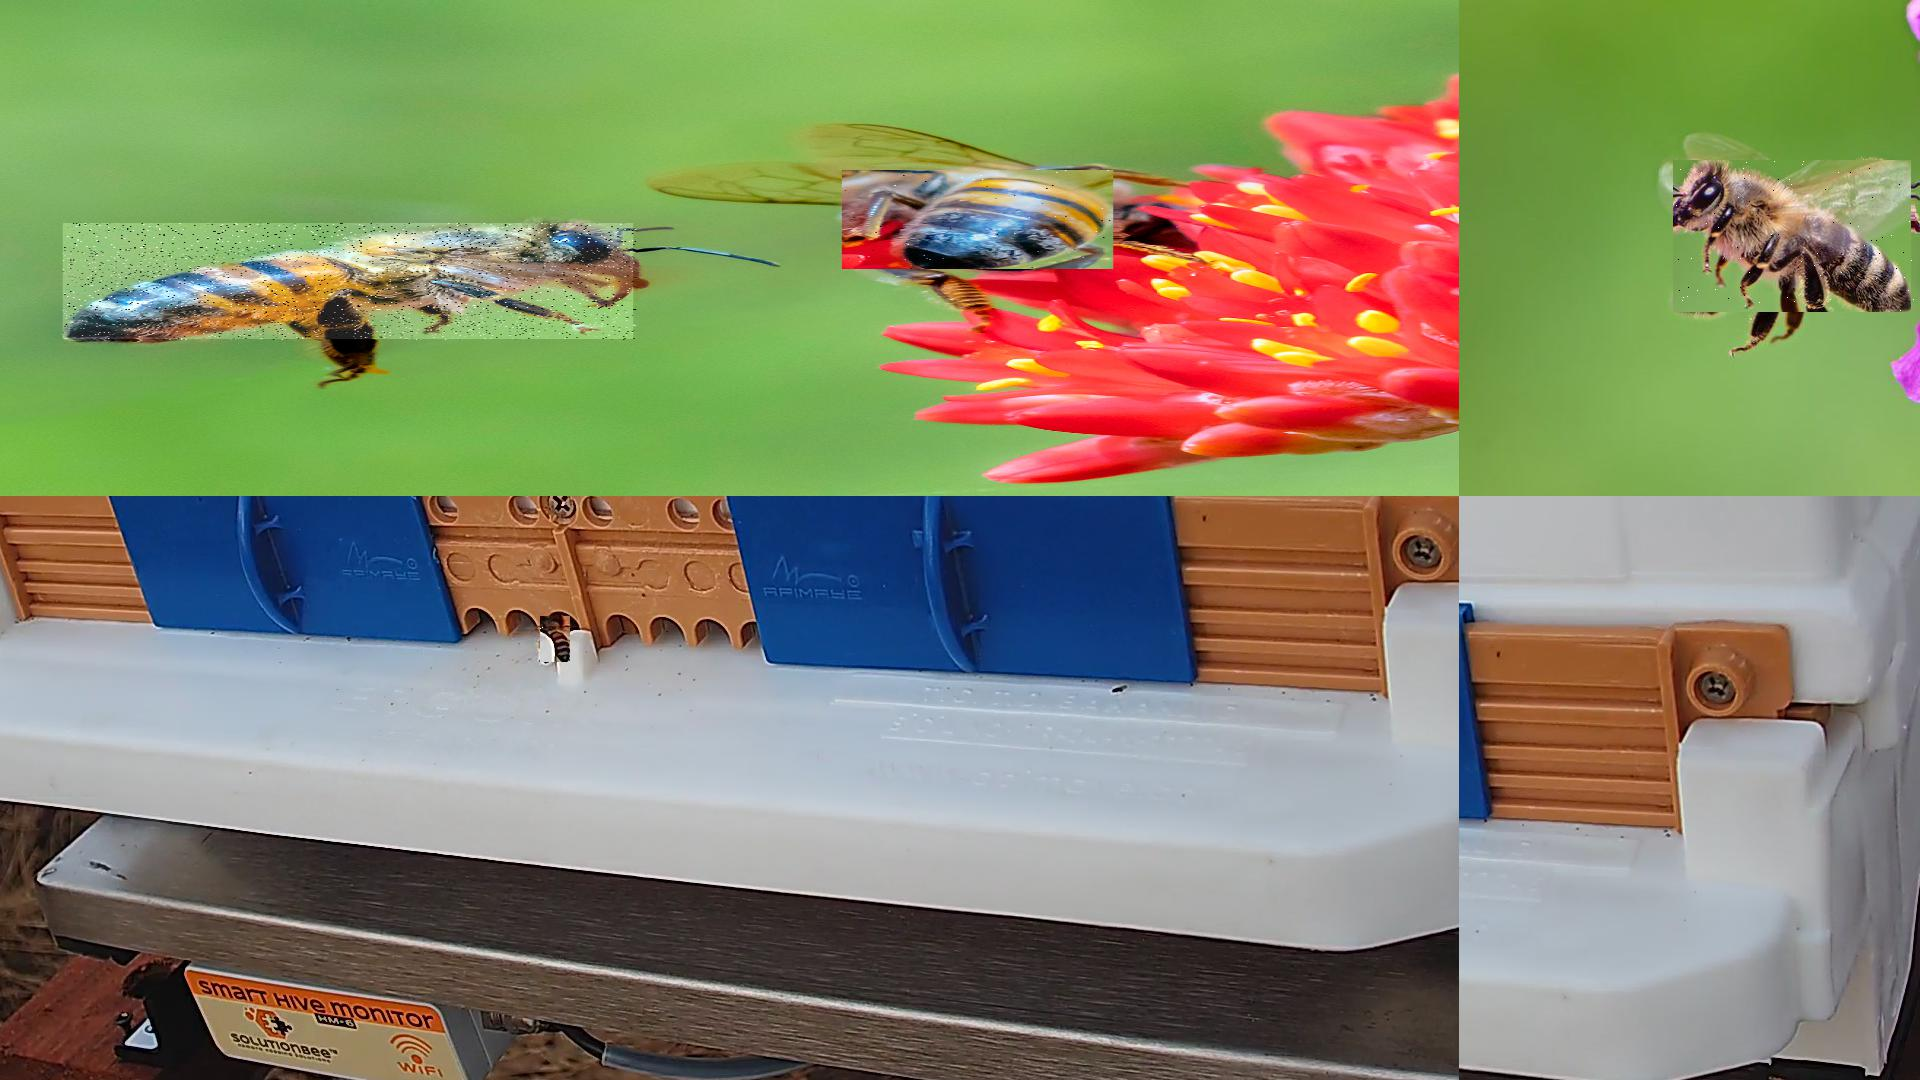bee: (63, 223, 638, 340), (1673, 160, 1916, 313), (843, 170, 1120, 269), (541, 616, 571, 663)
